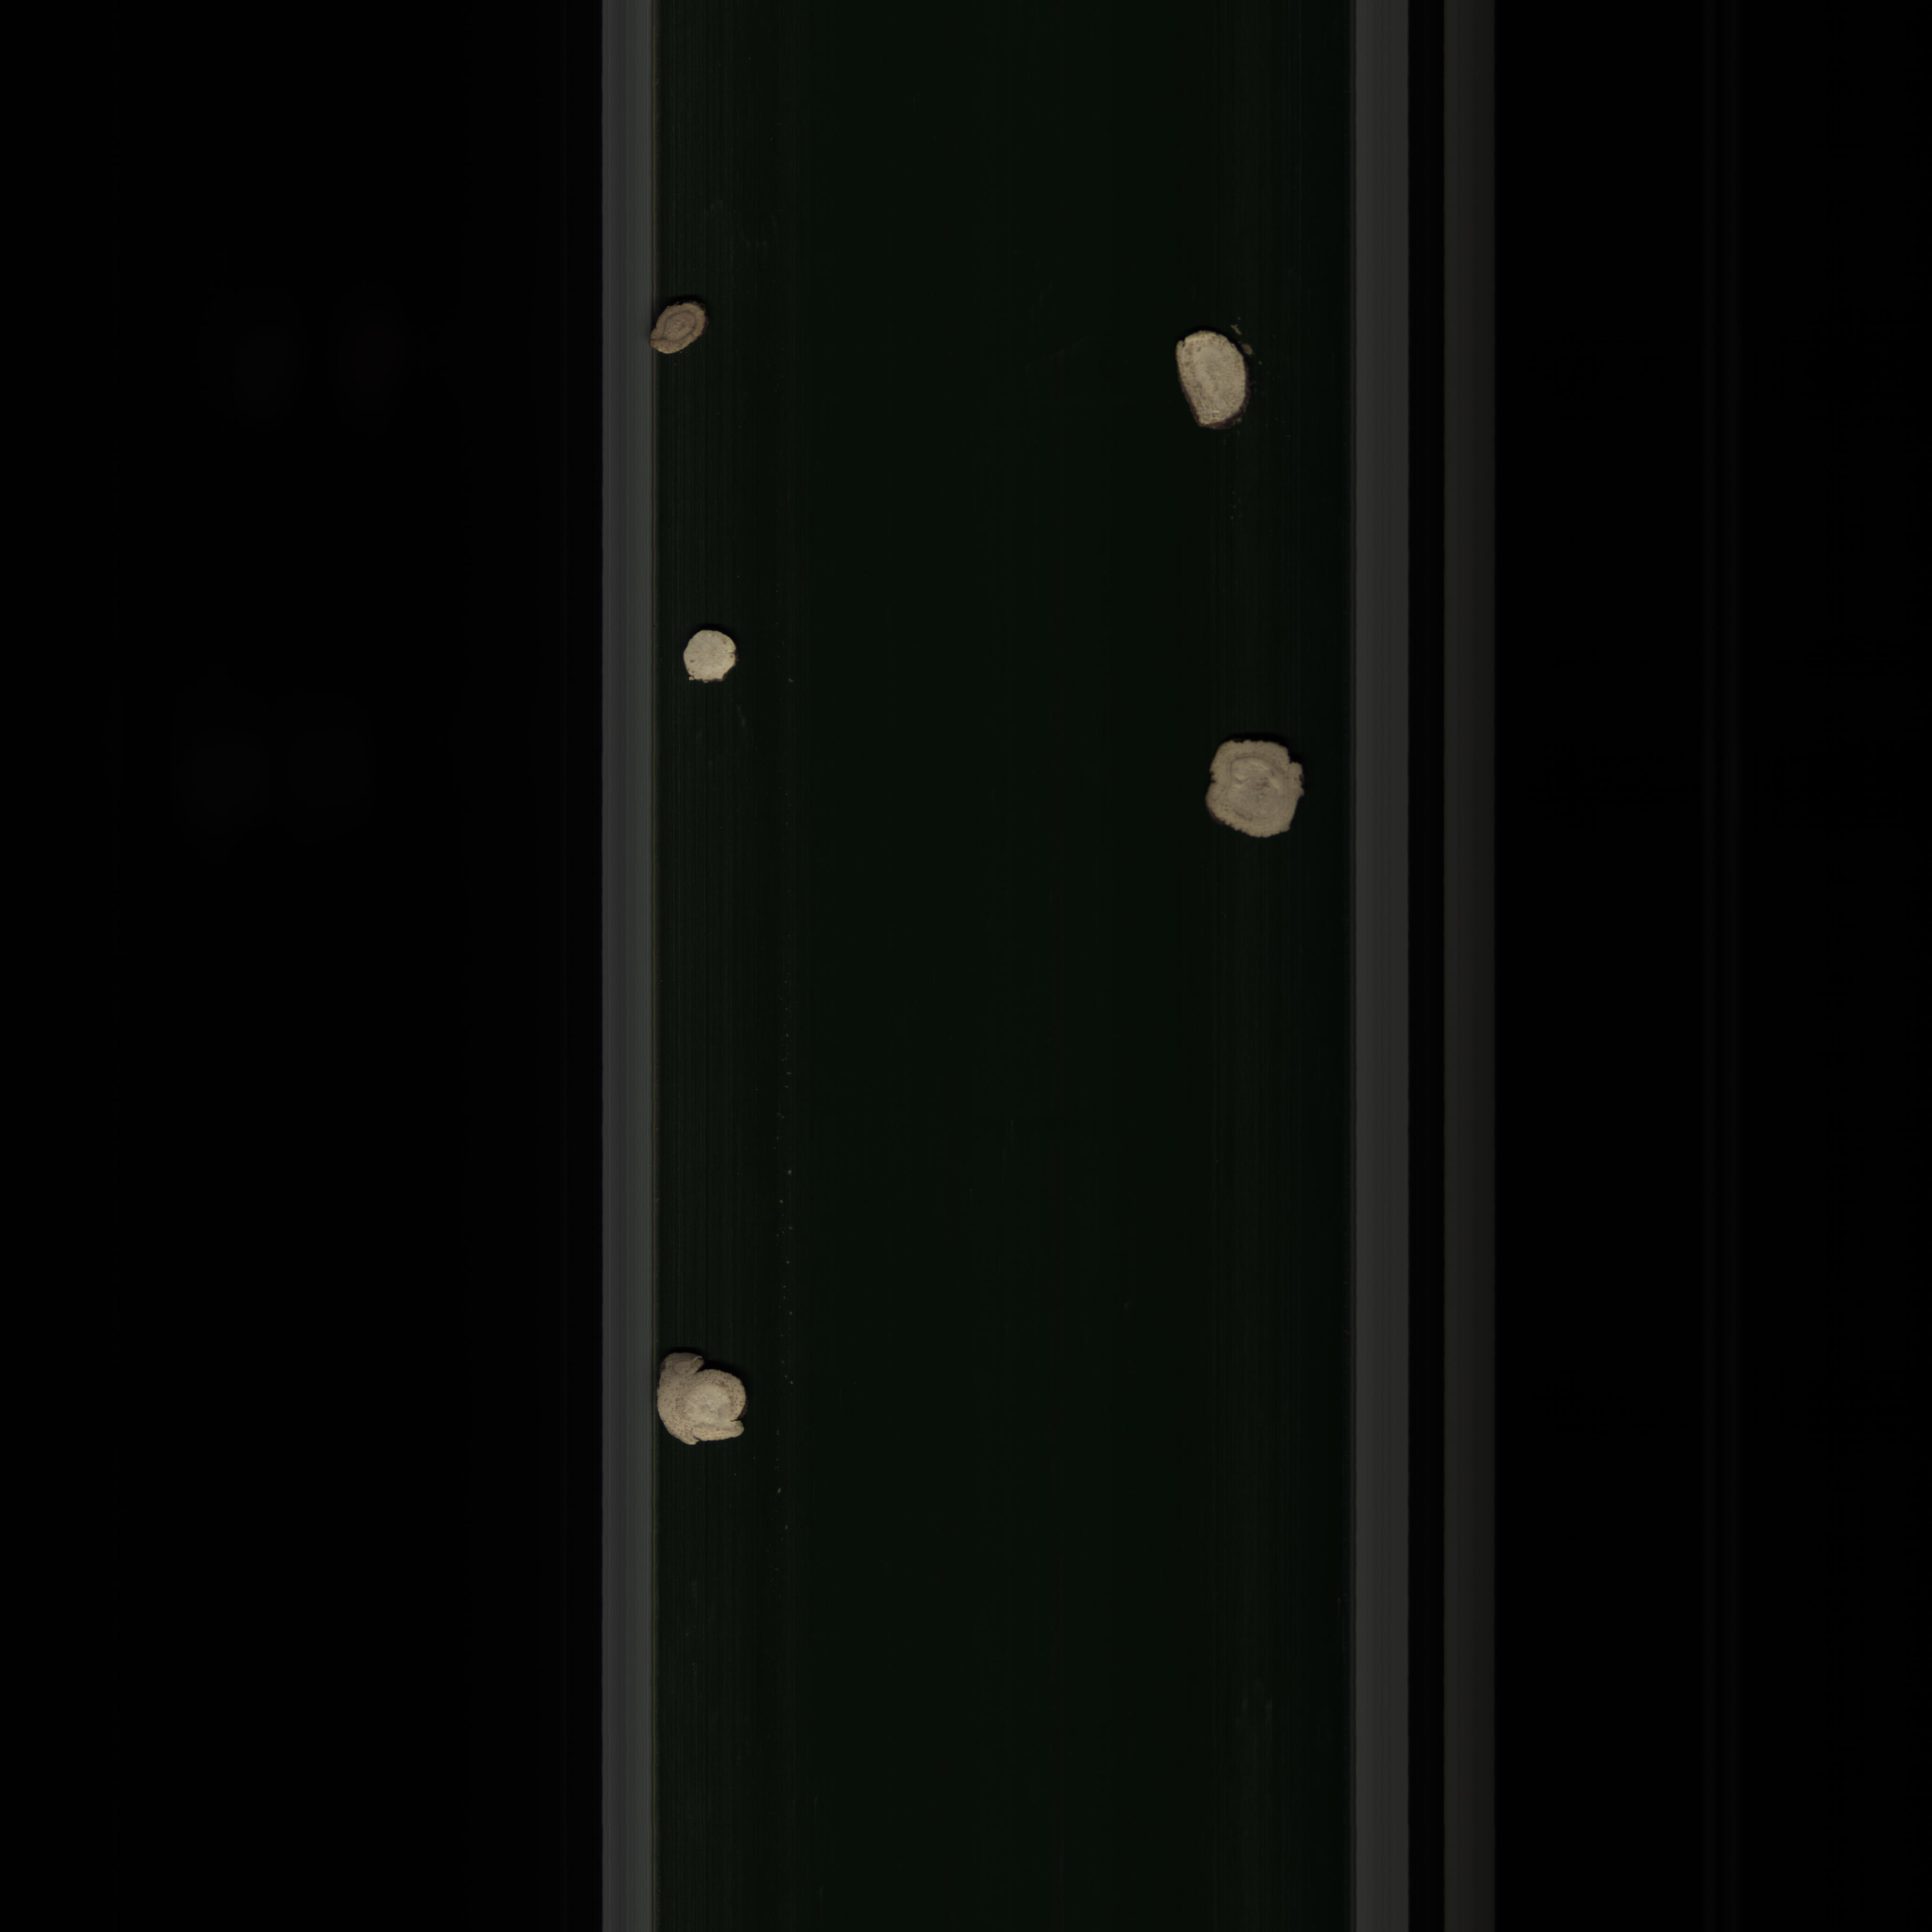debris: (649, 1346, 759, 1458), (678, 628, 743, 690)
moldy: (649, 295, 717, 357)
